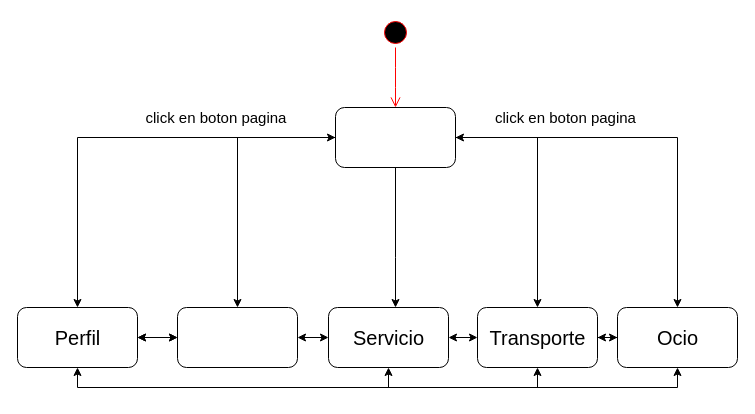
Some shapes in this 755 by 414 pixel diagram are drawn without their labels. The shapes that lost their labels are listed below. From the top down, each one's centre as x and y in pixels, then its label:
the point at 395,137: Home
the point at 237,337: Reserva
